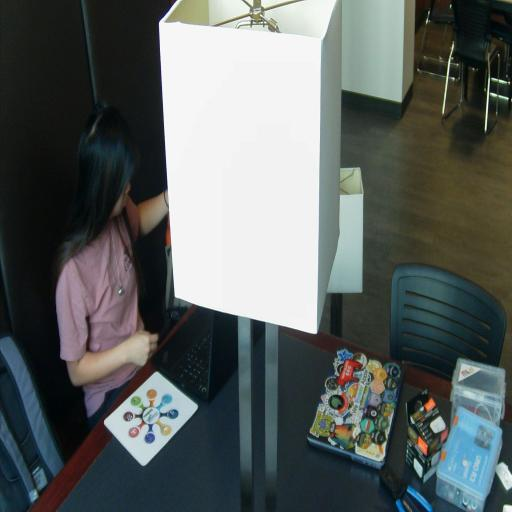lamp: (159, 0, 341, 512)
